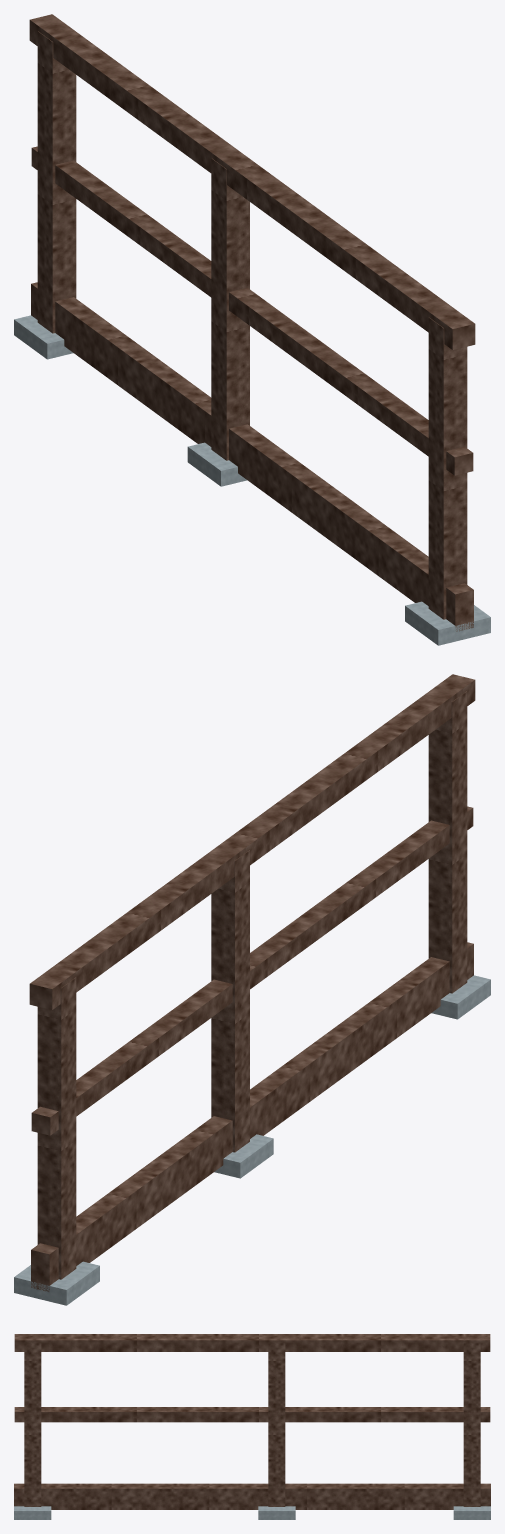
Rendered from PZ_Caldera_Handrail_03m_HeatWeathered.glb.
3 renders of one model, top to bottom at view 1: azimuth 30°, elevation 25°; view 2: azimuth 150°, elevation 25°; view 3: azimuth 270°, elevation 25°, orthographic. The views are drawn at different scales.
Visible parts, largest first — view 1: PZ_Caldera_Handrail_03m_HeatWeathered_RIGHT_UPRIGHT_POSTS, PZ_Caldera_Handrail_03m_HeatWeathered_RIGHT_TOE_KICK_PLATE, PZ_Caldera_Handrail_03m_HeatWeathered_RIGHT_TOP_HANDRAIL, PZ_Caldera_Handrail_03m_HeatWeathered_RIGHT_MID_HANDRAIL, PZ_Caldera_Handrail_03m_HeatWeathered_RIGHT_BOLTED_POST_BASE; view 2: PZ_Caldera_Handrail_03m_HeatWeathered_RIGHT_UPRIGHT_POSTS, PZ_Caldera_Handrail_03m_HeatWeathered_RIGHT_TOE_KICK_PLATE, PZ_Caldera_Handrail_03m_HeatWeathered_RIGHT_TOP_HANDRAIL, PZ_Caldera_Handrail_03m_HeatWeathered_RIGHT_MID_HANDRAIL, PZ_Caldera_Handrail_03m_HeatWeathered_RIGHT_BOLTED_POST_BASE; view 3: PZ_Caldera_Handrail_03m_HeatWeathered_RIGHT_TOE_KICK_PLATE, PZ_Caldera_Handrail_03m_HeatWeathered_RIGHT_UPRIGHT_POSTS, PZ_Caldera_Handrail_03m_HeatWeathered_RIGHT_TOP_HANDRAIL, PZ_Caldera_Handrail_03m_HeatWeathered_RIGHT_MID_HANDRAIL, PZ_Caldera_Handrail_03m_HeatWeathered_RIGHT_BOLTED_POST_BASE.
Boxes of the visible parts, x1,y1,x2,y2 form: PZ_Caldera_Handrail_03m_HeatWeathered_RIGHT_UPRIGHT_POSTS: (37,31,467,619); PZ_Caldera_Handrail_03m_HeatWeathered_RIGHT_TOE_KICK_PLATE: (31,282,473,631); PZ_Caldera_Handrail_03m_HeatWeathered_RIGHT_TOP_HANDRAIL: (29,14,475,349); PZ_Caldera_Handrail_03m_HeatWeathered_RIGHT_MID_HANDRAIL: (31,146,473,475); PZ_Caldera_Handrail_03m_HeatWeathered_RIGHT_BOLTED_POST_BASE: (14,315,490,645); PZ_Caldera_Handrail_03m_HeatWeathered_RIGHT_UPRIGHT_POSTS: (37,691,467,1279); PZ_Caldera_Handrail_03m_HeatWeathered_RIGHT_TOE_KICK_PLATE: (31,942,473,1291); PZ_Caldera_Handrail_03m_HeatWeathered_RIGHT_TOP_HANDRAIL: (29,674,475,1009); PZ_Caldera_Handrail_03m_HeatWeathered_RIGHT_MID_HANDRAIL: (31,806,473,1135); PZ_Caldera_Handrail_03m_HeatWeathered_RIGHT_BOLTED_POST_BASE: (14,975,490,1305); PZ_Caldera_Handrail_03m_HeatWeathered_RIGHT_TOE_KICK_PLATE: (14,1483,490,1509); PZ_Caldera_Handrail_03m_HeatWeathered_RIGHT_UPRIGHT_POSTS: (24,1343,480,1506); PZ_Caldera_Handrail_03m_HeatWeathered_RIGHT_TOP_HANDRAIL: (14,1334,490,1351); PZ_Caldera_Handrail_03m_HeatWeathered_RIGHT_MID_HANDRAIL: (14,1407,490,1422); PZ_Caldera_Handrail_03m_HeatWeathered_RIGHT_BOLTED_POST_BASE: (14,1506,490,1519).
Bounding box in the file's own units: 0.21 × 1.19 × 2.93.
2 materials, 2 textured.
